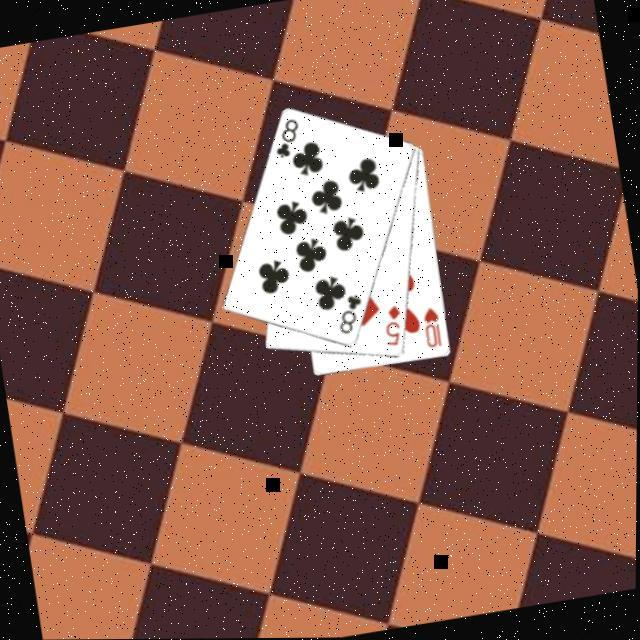10H: (418, 302, 444, 351)
5D: (376, 300, 407, 348)
8C: (330, 290, 368, 338), (266, 114, 304, 161)
